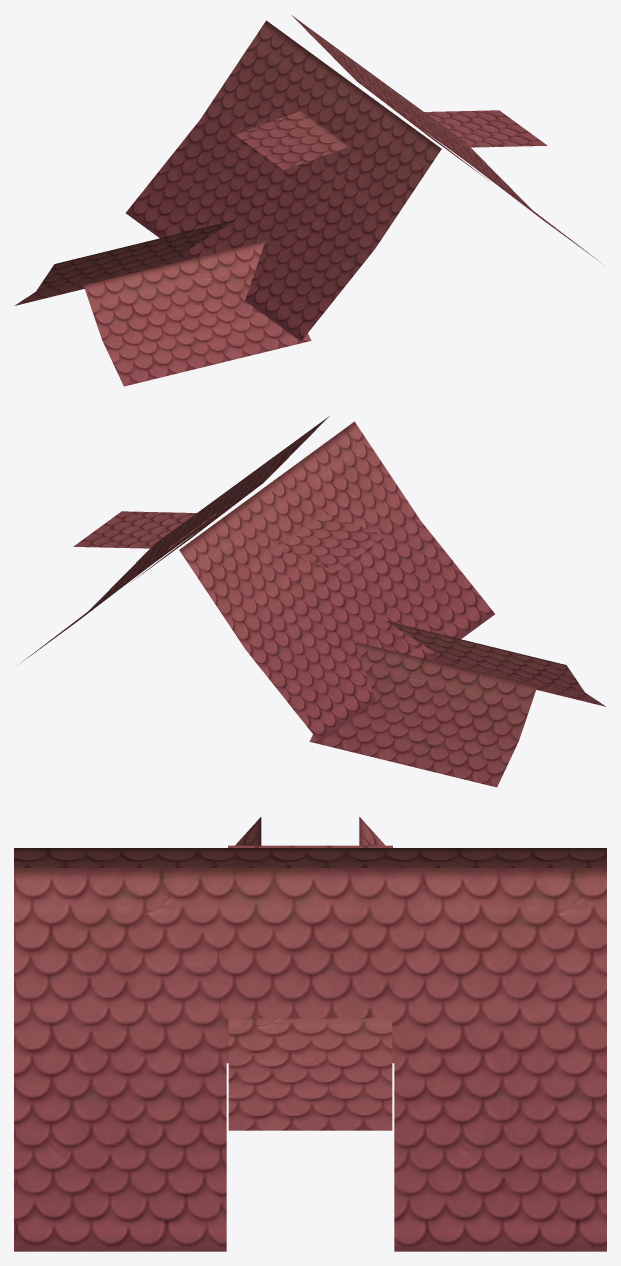
The model's file is scene_luoliante_blt02.FBX.
3 renders of one model, top to bottom at view 1: azimuth 30°, elevation 25°; view 2: azimuth 150°, elevation 25°; view 3: azimuth 270°, elevation 25°, orthographic. The views are drawn at different scales.
Parts seen in each view (by area): view 1: sence_luoliante_blt02; view 2: sence_luoliante_blt02; view 3: sence_luoliante_blt02.
Boxes of the visible parts, x1,y1,x2,y2 form: sence_luoliante_blt02: (14,15,600,386); sence_luoliante_blt02: (17,416,606,787); sence_luoliante_blt02: (14,817,606,1251).
Size of the model in its own units: 66.97 by 27.04 by 44.8.
